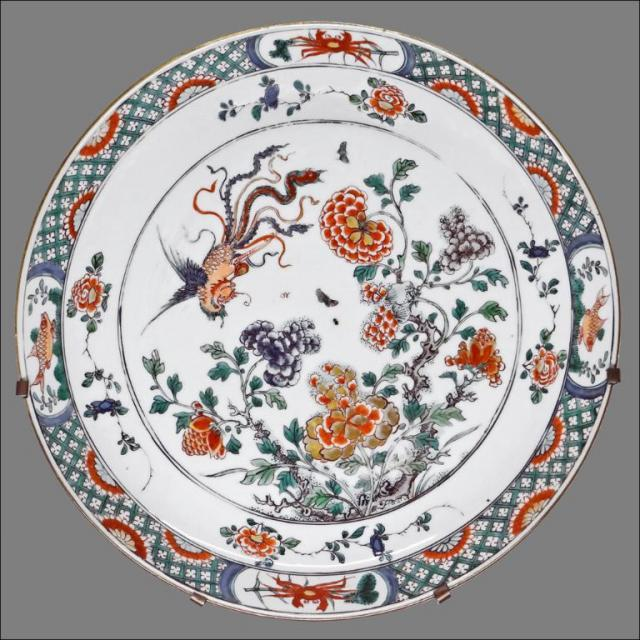ceramic plate: (16, 28, 625, 622)
